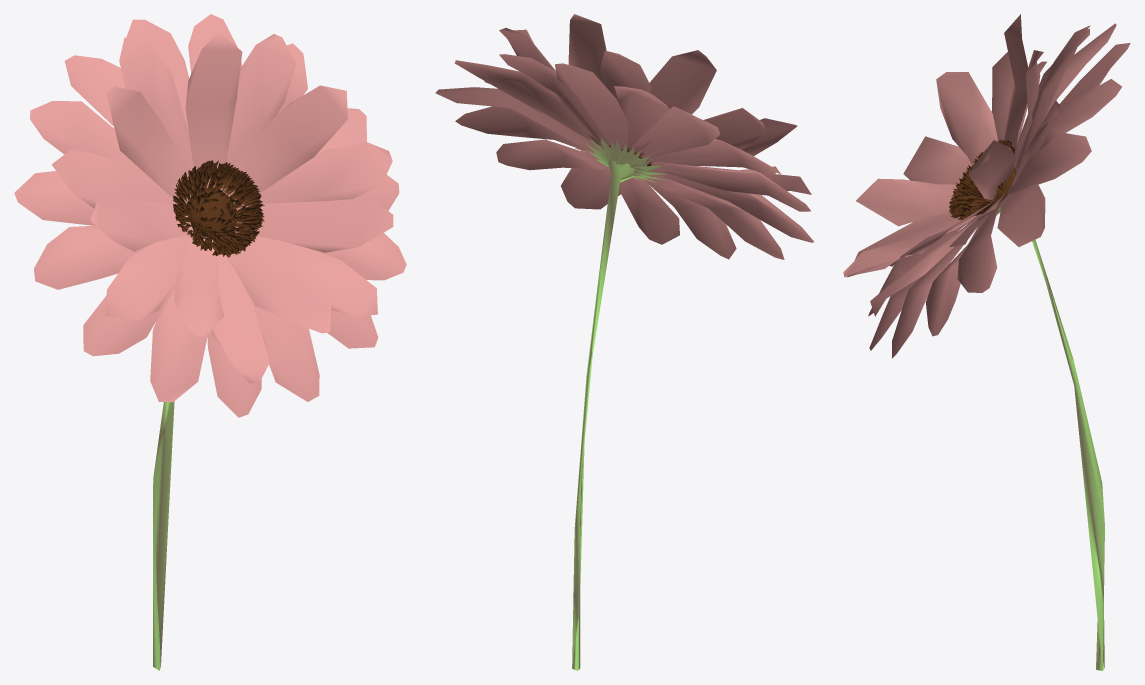
3 renders of one model, left to right at view 1: azimuth 30°, elevation 25°; view 2: azimuth 150°, elevation 25°; view 3: azimuth 270°, elevation 25°, orthographic. The views are drawn at different scales.
Visible parts, largest first — view 1: flover.002; view 2: flover.002; view 3: flover.002.
Part boxes in pixels (x1,y1,x2,y2): flover.002: (14, 14, 406, 670); flover.002: (435, 14, 814, 670); flover.002: (843, 14, 1130, 670).
Size of the model in its own units: 0.1865 by 0.3165 by 0.1302.
